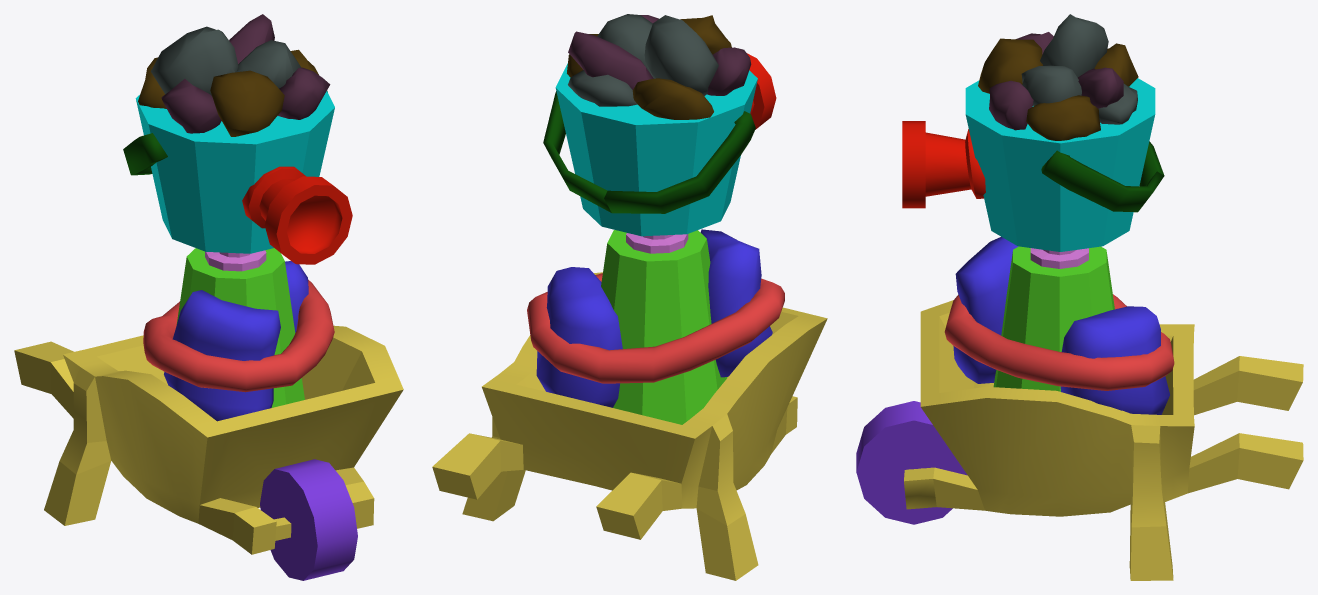
Rendered from Tower_StoneSlinger.fbx.
3 views of the same model, side by side, from view 1: azimuth 30°, elevation 25°; view 2: azimuth 150°, elevation 25°; view 3: azimuth 270°, elevation 25° (orthographic). The views are drawn at different scales.
Parts seen in each view (by area): view 1: WheelBarrow.002, Head.002; view 2: WheelBarrow.002, Head.002; view 3: WheelBarrow.002, Head.002.
Boxes of the visible parts, left/top/right/bottom form: WheelBarrow.002: left=14, top=248, right=403, bottom=580; Head.002: left=123, top=14, right=352, bottom=264; WheelBarrow.002: left=432, top=229, right=827, bottom=580; Head.002: left=543, top=14, right=776, bottom=236; WheelBarrow.002: left=856, top=237, right=1303, bottom=580; Head.002: left=902, top=14, right=1164, bottom=251.
Size of the model in its own units: 1709 by 2952 by 2455.
